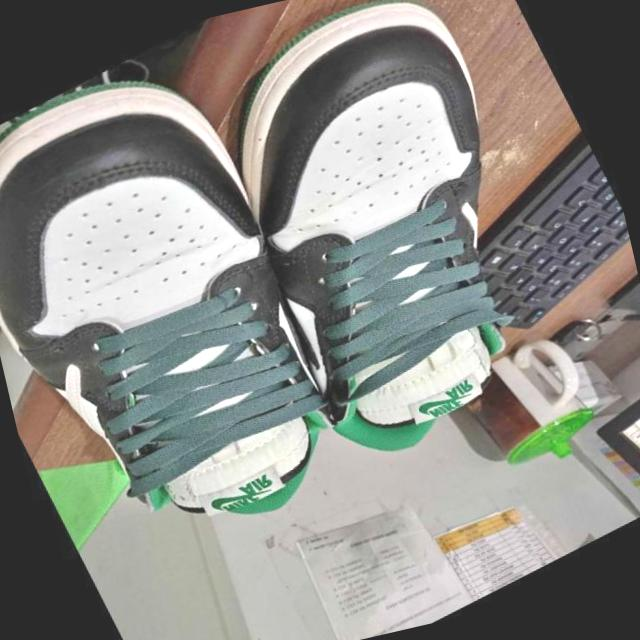nike_fake_jordan: (147, 0, 632, 503), (0, 10, 401, 608)
